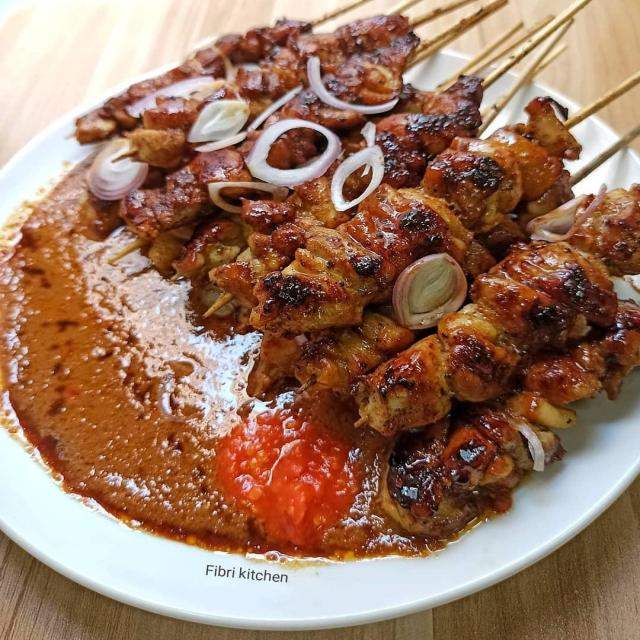Sate: (12, 13, 640, 496)
